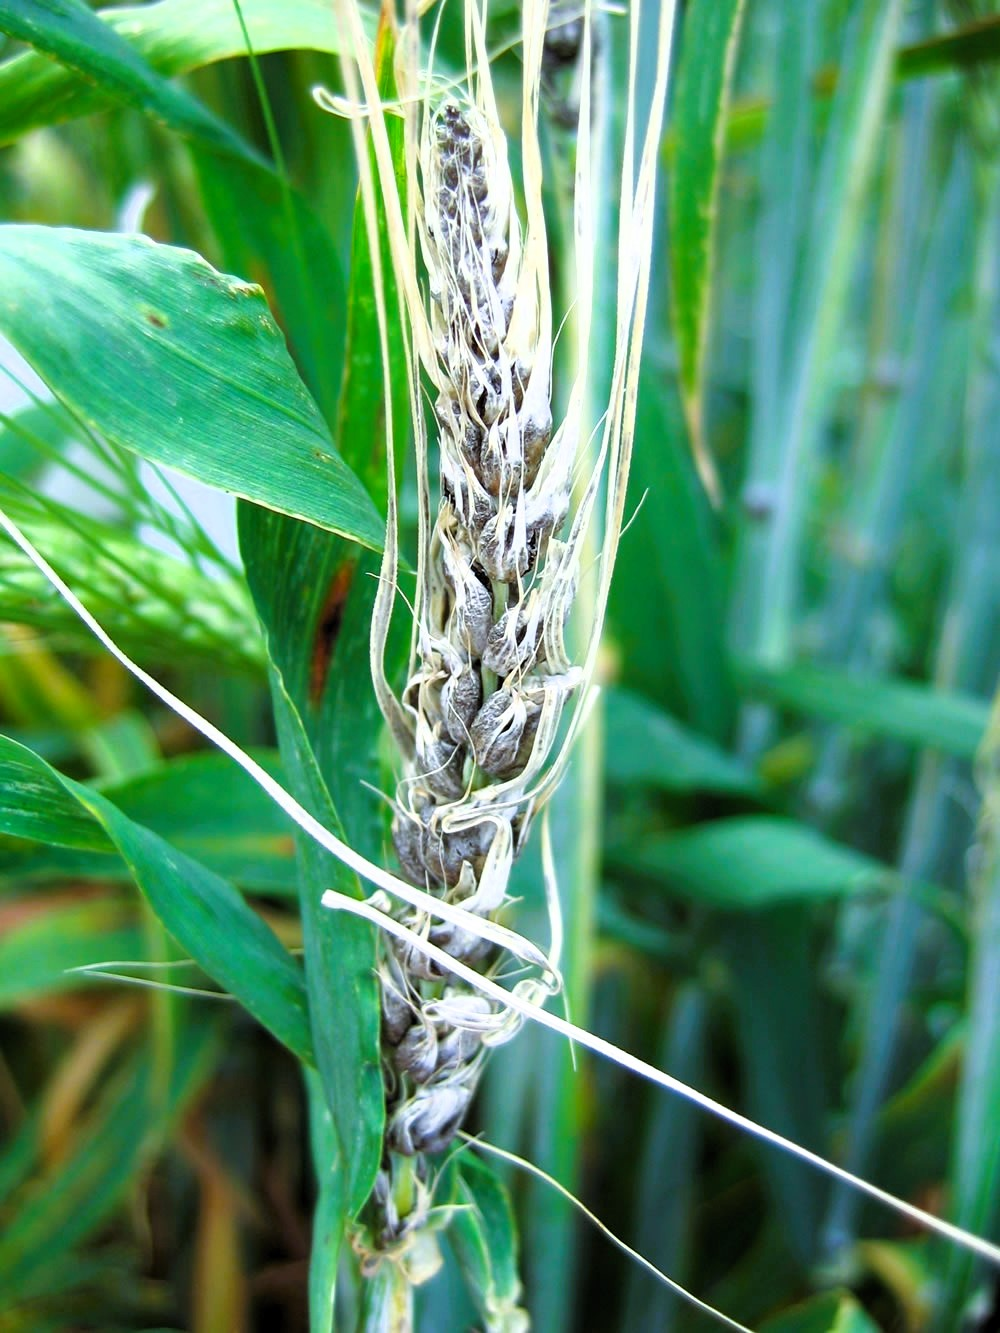Wheat Loose Smut: (341, 249, 617, 933)
